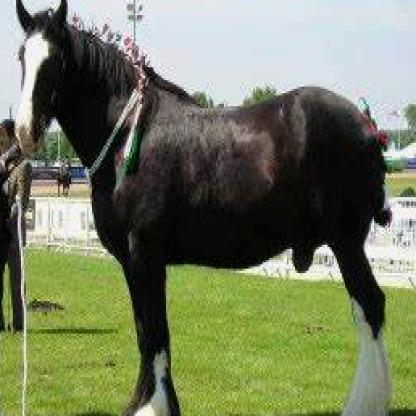horse: (13, 0, 388, 414)
